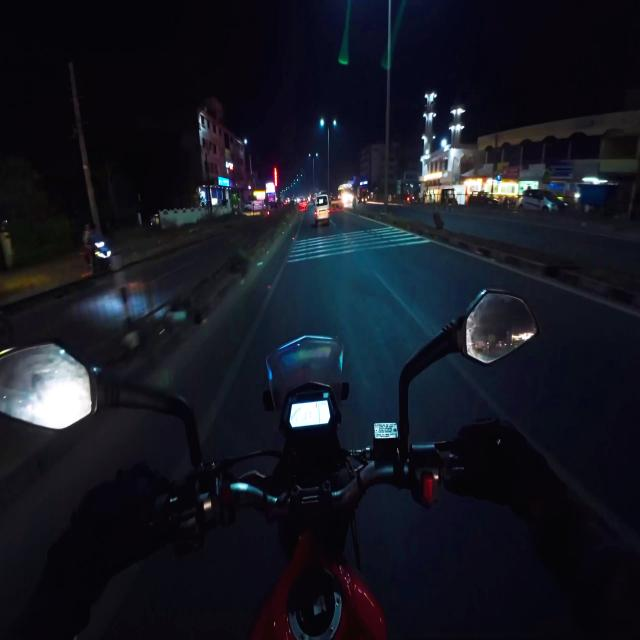car: (518, 190, 565, 210), (315, 195, 330, 226), (468, 192, 499, 206), (299, 200, 307, 210)
motorcycle: (0, 291, 539, 639)
